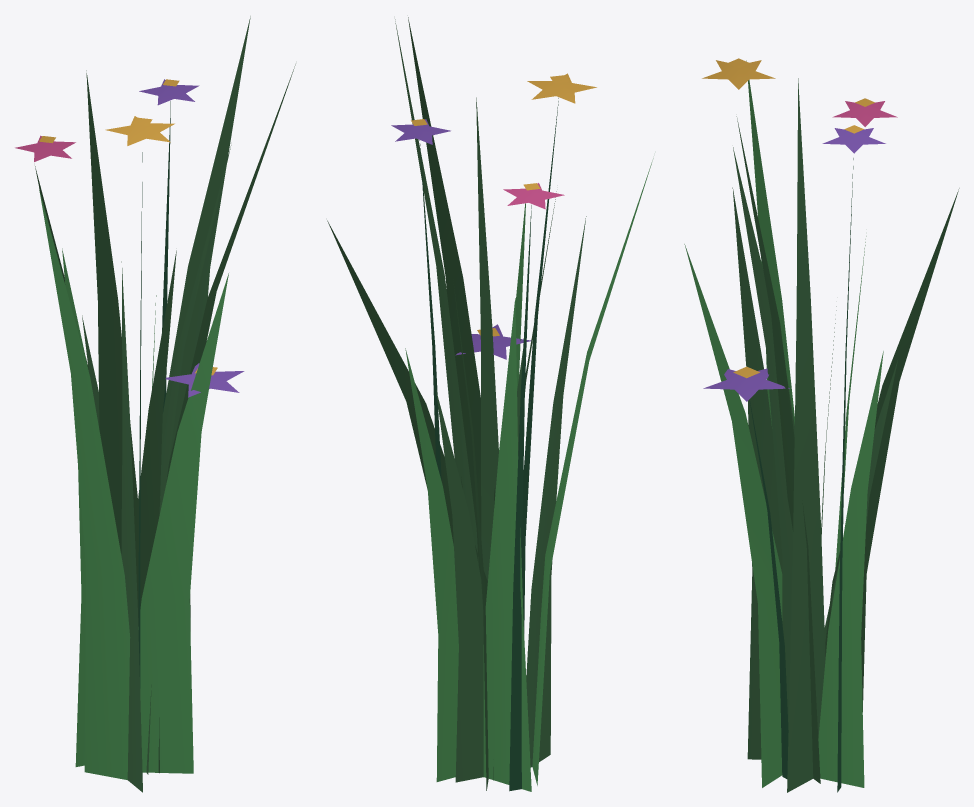
The model's file is meadow_flowers.glb.
3 views of the same model, side by side, from view 1: azimuth 30°, elevation 25°; view 2: azimuth 150°, elevation 25°; view 3: azimuth 270°, elevation 25° (orthographic). The views are drawn at different scales.
Parts seen in each view (by area): view 1: body; view 2: body; view 3: body.
Part boxes in pixels (<box>): body: <box>15,16,295,792</box>; body: <box>327,17,653,791</box>; body: <box>684,58,959,792</box>.
Bounding box in the file's own units: 0.3302 × 0.8875 × 0.2966.
